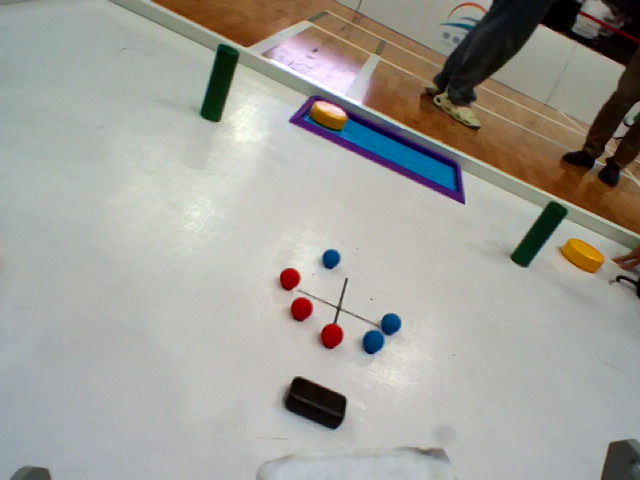black: (269, 378, 357, 433)
blue: (358, 329, 386, 361), (381, 309, 411, 337), (319, 247, 348, 272)
kuang: (281, 89, 472, 212)
red: (286, 294, 320, 322), (318, 320, 345, 352), (278, 266, 304, 295)
yellow: (560, 234, 610, 279), (311, 98, 349, 134)
zhuzi: (493, 195, 564, 277), (196, 32, 240, 142)
